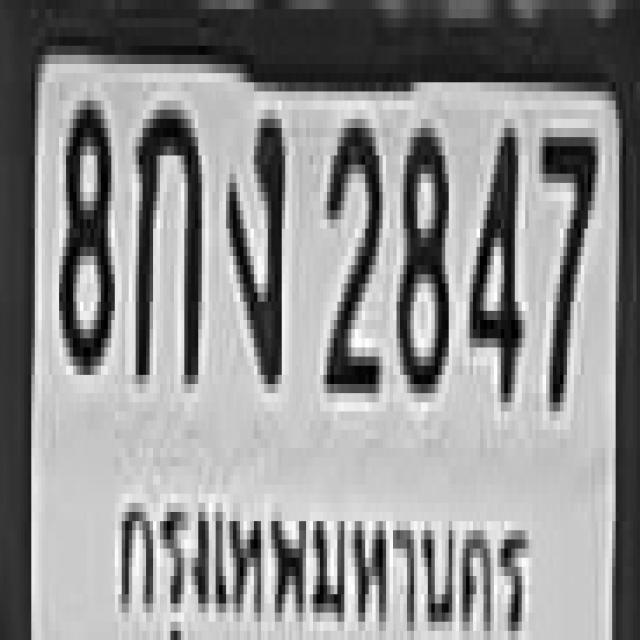10GorGai: (132, 100, 198, 375)
16NgorNgu: (226, 110, 282, 375)
2: (324, 110, 379, 384)
4: (466, 119, 518, 393)
7: (536, 128, 594, 402)
8: (56, 91, 111, 366), (393, 119, 445, 384)
Bangkok: (114, 474, 531, 639)
